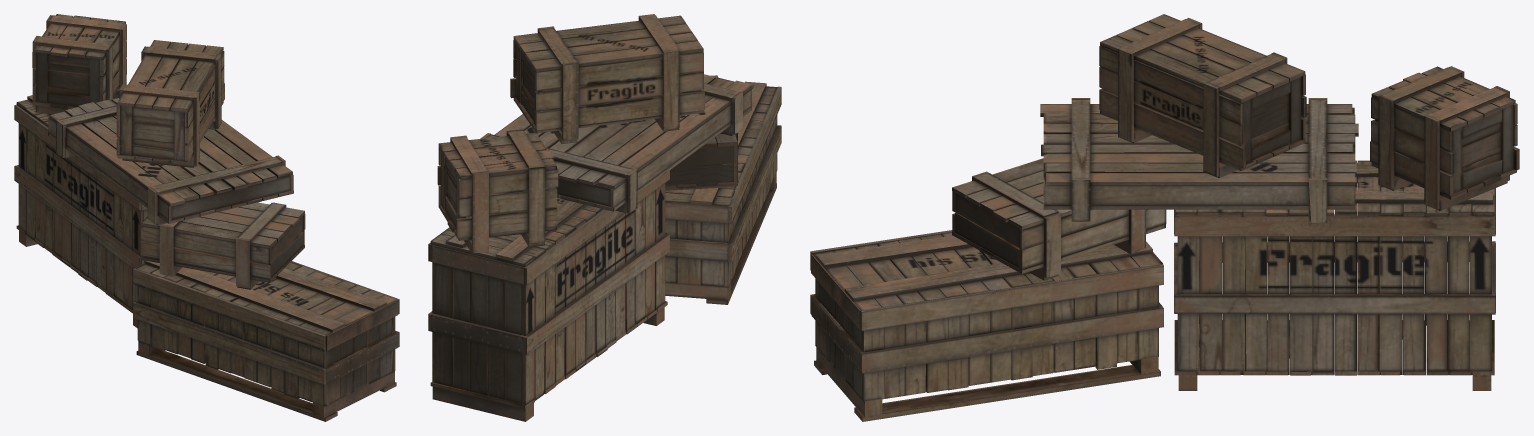
Rendered from military_wooden_box.glb.
The picture shows the model from 3 angles, left to right: view 1: azimuth 30°, elevation 25°; view 2: azimuth 150°, elevation 25°; view 3: azimuth 270°, elevation 25°; orthographic projection. The views are drawn at different scales.
Parts seen in each view (by area): view 1: Cube.109, Cube.100, Cube.069, Cube.081, Cube.075, Cube.057; view 2: Cube.100, Cube.081, Cube.109, Cube.069, Cube.057, Cube.075; view 3: Cube.100, Cube.109, Cube.069, Cube.081, Cube.057, Cube.075.
Boxes of the visible parts, x1,y1,x2,y2 form: Cube.109: [133, 260, 399, 421]; Cube.100: [14, 95, 147, 328]; Cube.069: [48, 98, 293, 225]; Cube.081: [116, 40, 224, 167]; Cube.075: [141, 202, 305, 289]; Cube.057: [32, 14, 126, 114]; Cube.100: [428, 170, 669, 421]; Cube.081: [510, 14, 704, 143]; Cube.109: [665, 81, 781, 304]; Cube.069: [480, 74, 753, 213]; Cube.057: [437, 129, 558, 253]; Cube.075: [665, 75, 737, 190]; Cube.100: [1174, 160, 1495, 390]; Cube.109: [810, 230, 1163, 421]; Cube.069: [1040, 98, 1358, 222]; Cube.081: [1099, 14, 1306, 177]; Cube.057: [1370, 66, 1519, 210]; Cube.075: [952, 158, 1166, 280].
Size of the model in its own units: 3.1 by 4.23 by 8.73.
1 material, 1 textured.
